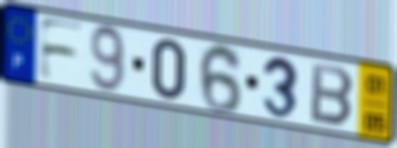0: (150, 37, 189, 102)
3: (260, 53, 304, 122)
6: (197, 40, 245, 116)
9: (88, 22, 128, 97)
B: (308, 60, 357, 129)
F: (37, 15, 88, 84)
